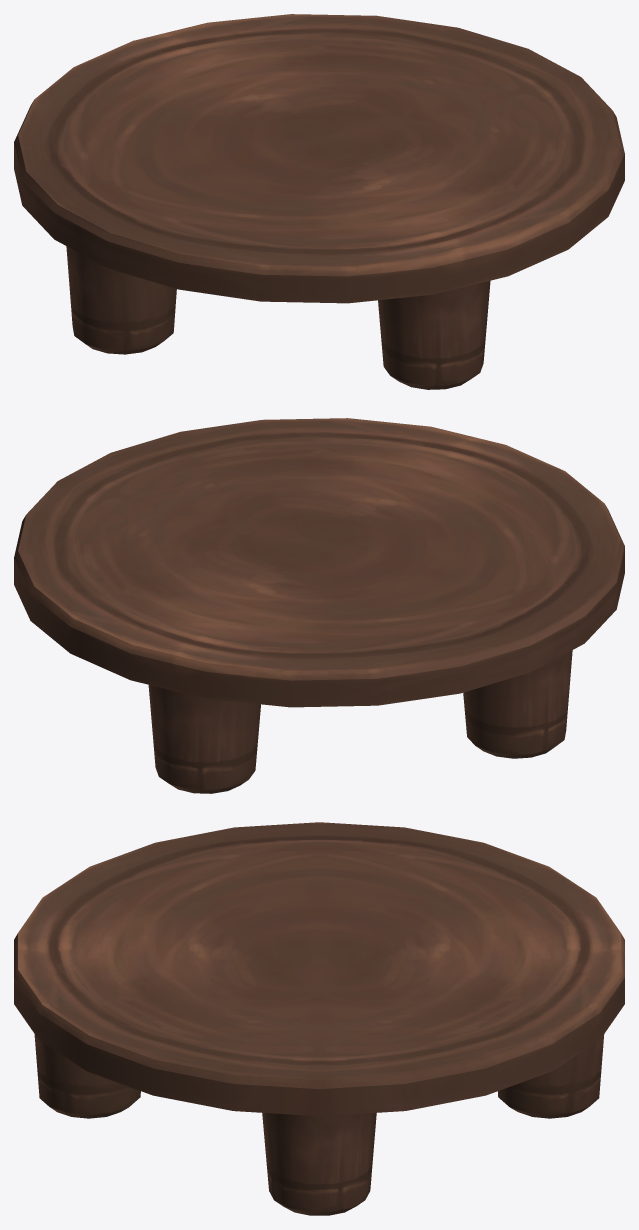
Rendered from TableRounded.FBX.
3 views of the same model, one above another, from view 1: azimuth 30°, elevation 25°; view 2: azimuth 150°, elevation 25°; view 3: azimuth 270°, elevation 25° (orthographic).
Parts seen in each view (by area): view 1: TableRounded; view 2: TableRounded; view 3: TableRounded.
Boxes of the visible parts, x1,y1,x2,y2 form: TableRounded: [14, 14, 624, 389]; TableRounded: [14, 418, 624, 793]; TableRounded: [14, 822, 624, 1215].
Size of the model in its own units: 475 by 127 by 469.
